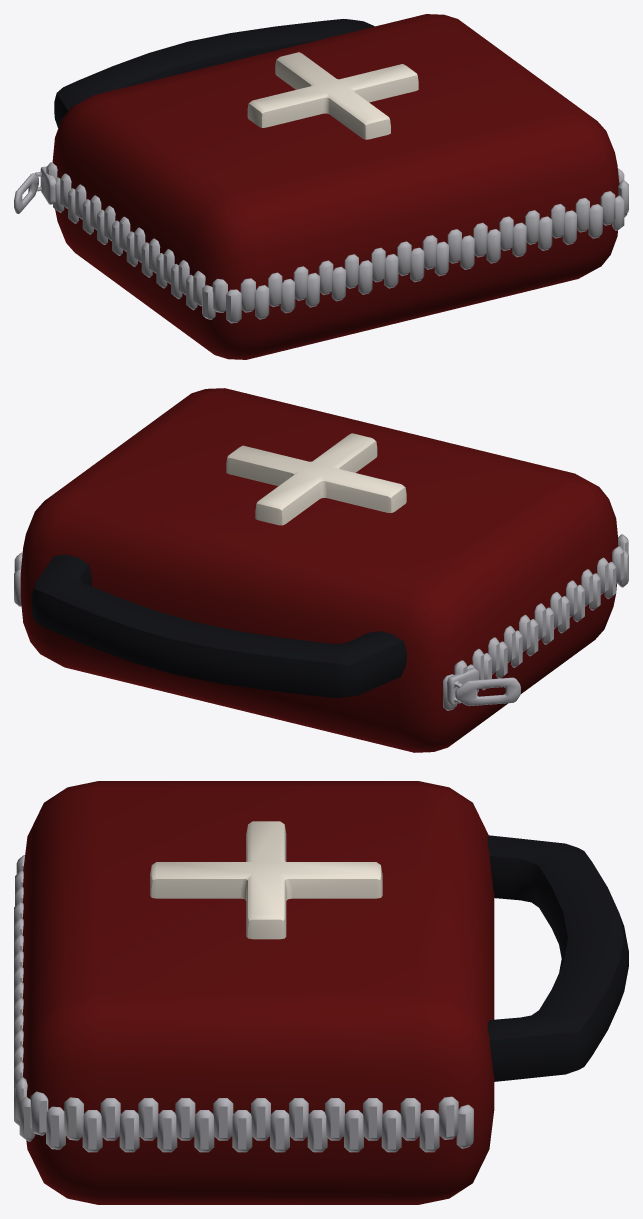
File: Medkit.fbx
3 renders of one model, top to bottom at view 1: azimuth 30°, elevation 25°; view 2: azimuth 150°, elevation 25°; view 3: azimuth 270°, elevation 25°, orthographic. The views are drawn at different scales.
Visible parts, largest first — view 1: MedPack_Asset; view 2: MedPack_Asset; view 3: MedPack_Asset.
Part boxes in pixels (x1,y1,x2,y2): MedPack_Asset: (14,14,628,359); MedPack_Asset: (14,388,628,752); MedPack_Asset: (14,781,628,1204).
Bounding box in the file's own units: 14.5 × 5.29 × 12.91.
